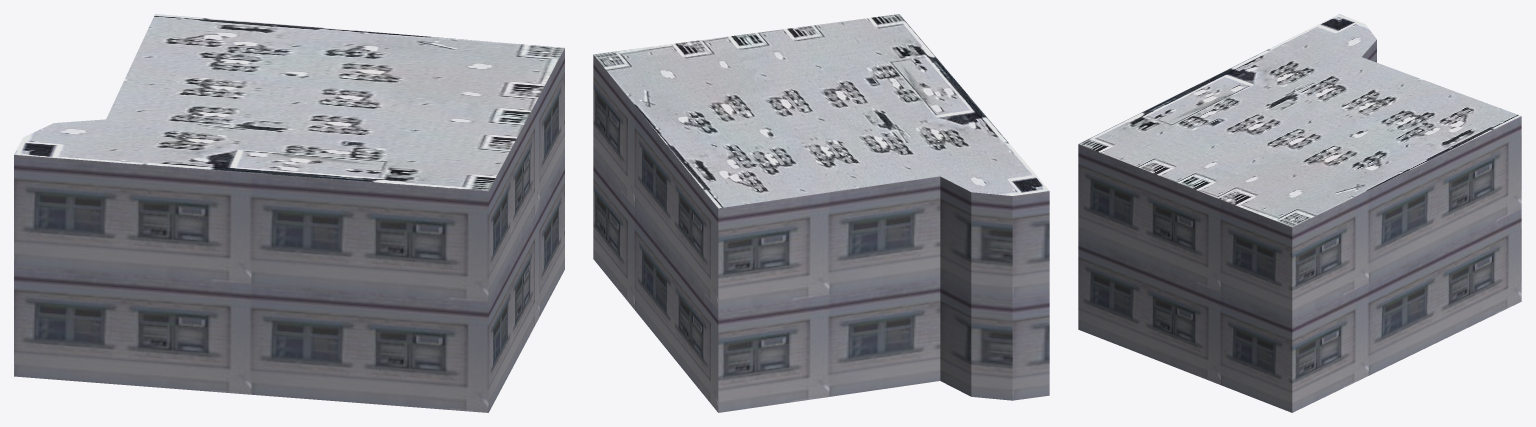
The model's file is ResTex__2853.fbx.
3 views of the same model, side by side, from view 1: azimuth 30°, elevation 25°; view 2: azimuth 150°, elevation 25°; view 3: azimuth 270°, elevation 25° (orthographic). The views are drawn at different scales.
Parts seen in each view (by area): view 1: CityEngineMaterial_1_m, CityEngineMaterial_8_m; view 2: CityEngineMaterial_1_m, CityEngineMaterial_8_m; view 3: CityEngineMaterial_1_m, CityEngineMaterial_8_m.
Part boxes in pixels (box(x1,y1,x2,y2)): CityEngineMaterial_1_m: box(14, 48, 564, 412); CityEngineMaterial_8_m: box(14, 14, 564, 191); CityEngineMaterial_1_m: box(593, 55, 1049, 412); CityEngineMaterial_8_m: box(593, 14, 1049, 208); CityEngineMaterial_1_m: box(1078, 40, 1521, 412); CityEngineMaterial_8_m: box(1078, 14, 1521, 227).
Bounding box in the file's own units: 14.8 × 6 × 13.
2 materials, 2 textured.
